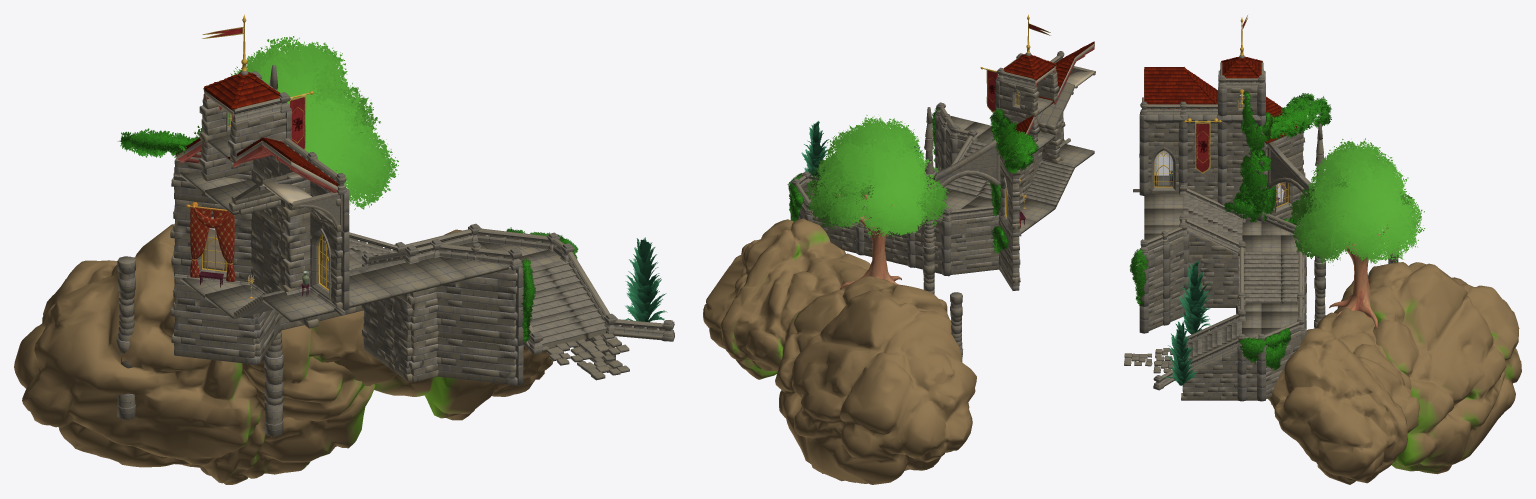
File: cell_x0_z0_render.gltf
3 views of the same model, side by side, from view 1: azimuth 30°, elevation 25°; view 2: azimuth 150°, elevation 25°; view 3: azimuth 270°, elevation 25° (orthographic). The views are drawn at different scales.
Parts seen in each view (by area): view 1: SM_ENV_cliff_castle_01_LOD0.031, SM_ENV_tree_castle_01_LOD0.035, SM_ENV_cliff_castle_02_LOD0.002, SM_MOD_wall_big_diagonal_castle_LOD0.022, SM_MOD_wall_big_diagonal_castle_LOD0.083, SM_MOD_wall_big_diagonal_window_castle_LOD0.004, SM_MOD_wall_small_diagonal_castle_LOD0.048, SM_MOD_wall_big_windows_castle_LOD0.018, SM_PROP_curtain_castle_01_LOD0.003, SM_ENV_tree_castle_02_LOD0.017, SM_MOD_deco_flying_buttress_ext_castle_LOD0.049, SM_MOD_wall_big_castle_LOD0.038 (+35 smaller); view 2: SM_ENV_cliff_castle_01_LOD0.031, SM_ENV_cliff_castle_02_LOD0.002, SM_ENV_tree_castle_01_LOD0.035, SM_MOD_deco_flying_buttress_castle_LOD0.035, SM_MOD_wall_big_diagonal_castle_LOD0.105, SM_ENV_bush_castle_08_LOD0.060, SM_MOD_stairs_straight_01_castle_LOD0.038, SM_MOD_wall_big_diagonal_window_castle_LOD0.004, SM_MOD_wall_small_window_castle_LOD0.034, SM_MOD_wall_big_diagonal_castle_LOD0.083, SM_MOD_roof_cap_cross_castle_LOD0.004, SM_ENV_tree_castle_02_LOD0.017 (+17 smaller); view 3: SM_ENV_cliff_castle_01_LOD0.031, SM_ENV_cliff_castle_02_LOD0.002, SM_ENV_tree_castle_01_LOD0.035, SM_ENV_bush_castle_08_LOD0.060, SM_MOD_wall_big_castle_LOD0.121, SM_MOD_wall_big_diagonal_castle_LOD0.022, SM_MOD_wall_big_windows_castle_LOD0.018, SM_MOD_deco_flying_buttress_castle_LOD0.035, SM_MOD_roof_sloped_castle_LOD0.029, SM_ENV_bush_castle_08_LOD0.024, SM_ENV_tree_castle_02_LOD0.003, SM_ENV_tree_castle_02_LOD0.017 (+35 smaller).
Part boxes in pixels (x1,y1,x2,y2): SM_ENV_cliff_castle_01_LOD0.031: (14,224,375,484); SM_ENV_tree_castle_01_LOD0.035: (194,36,398,209); SM_ENV_cliff_castle_02_LOD0.002: (309,229,555,420); SM_MOD_wall_big_diagonal_castle_LOD0.022: (436,267,517,346); SM_MOD_wall_big_diagonal_castle_LOD0.083: (170,279,257,364); SM_MOD_wall_big_diagonal_window_castle_LOD0.004: (170,199,251,282); SM_MOD_wall_small_diagonal_castle_LOD0.048: (437,337,517,385); SM_MOD_wall_big_windows_castle_LOD0.018: (310,212,342,308); SM_PROP_curtain_castle_01_LOD0.003: (185,202,235,281); SM_ENV_tree_castle_02_LOD0.017: (624,237,667,322); SM_MOD_deco_flying_buttress_ext_castle_LOD0.049: (116,256,135,419); SM_MOD_wall_big_castle_LOD0.038: (250,211,280,293); SM_ENV_cliff_castle_01_LOD0.031: (775,276,976,484); SM_ENV_cliff_castle_02_LOD0.002: (703,218,870,379); SM_ENV_tree_castle_01_LOD0.035: (805,115,950,289); SM_MOD_deco_flying_buttress_castle_LOD0.035: (922,107,1000,254); SM_MOD_wall_big_diagonal_castle_LOD0.105: (950,215,998,274); SM_ENV_bush_castle_08_LOD0.060: (992,121,1038,174); SM_MOD_stairs_straight_01_castle_LOD0.038: (1025,159,1074,208); SM_MOD_wall_big_diagonal_window_castle_LOD0.004: (998,165,1020,237); SM_MOD_wall_small_window_castle_LOD0.034: (999,81,1039,116); SM_MOD_wall_big_diagonal_castle_LOD0.083: (998,216,1020,290); SM_MOD_roof_cap_cross_castle_LOD0.004: (1003,54,1055,87); SM_ENV_tree_castle_02_LOD0.017: (801,121,829,179); SM_ENV_cliff_castle_01_LOD0.031: (1334,262,1521,474); SM_ENV_cliff_castle_02_LOD0.002: (1268,308,1419,484); SM_ENV_tree_castle_01_LOD0.035: (1288,138,1425,328); SM_ENV_bush_castle_08_LOD0.060: (1269,93,1331,140); SM_MOD_wall_big_castle_LOD0.121: (1200,254,1239,307); SM_MOD_wall_big_diagonal_castle_LOD0.022: (1148,236,1184,304); SM_MOD_wall_big_windows_castle_LOD0.018: (1148,141,1178,193); SM_MOD_deco_flying_buttress_castle_LOD0.035: (1267,123,1325,269); SM_MOD_roof_sloped_castle_LOD0.029: (1144,67,1183,108); SM_ENV_bush_castle_08_LOD0.024: (1239,150,1271,215); SM_ENV_tree_castle_02_LOD0.003: (1178,261,1210,334); SM_ENV_tree_castle_02_LOD0.017: (1164,321,1196,385).
Bounding box in the file's own units: 36.47 × 45.77 × 40.7.
Materials: 17 (16 with a texture image).
